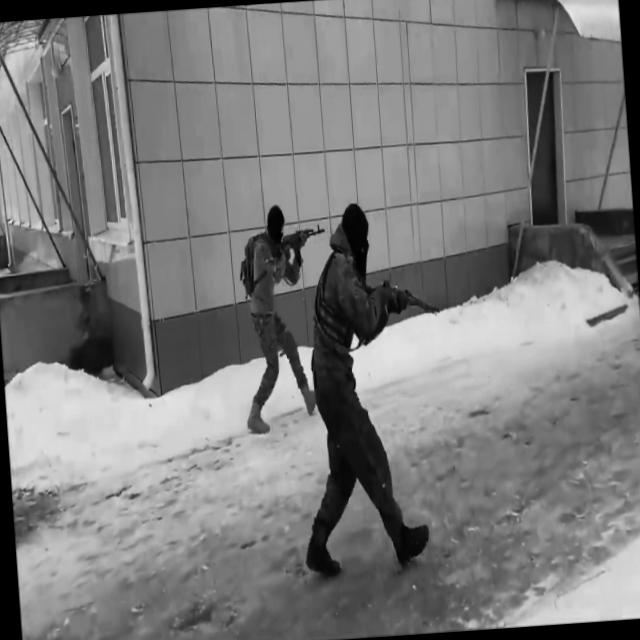gun: (360, 274, 440, 322), (266, 222, 328, 269)
person with a gun: (281, 197, 458, 578), (232, 202, 340, 436)
